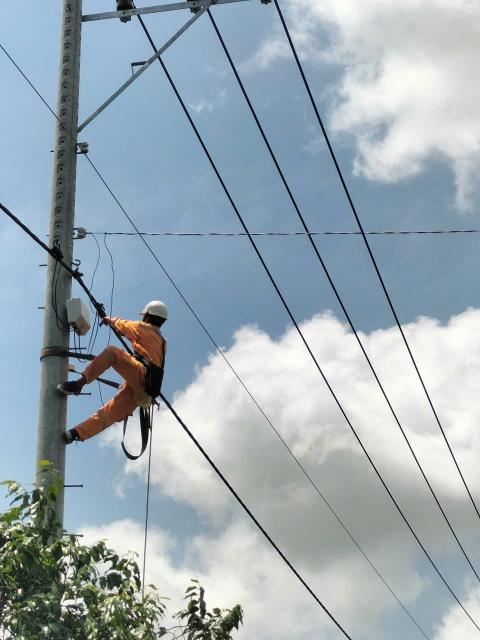gloves: (101, 313, 121, 330)
harness: (125, 341, 170, 385)
helmet: (133, 294, 174, 324)
shoes: (57, 376, 90, 400), (58, 430, 82, 446)
